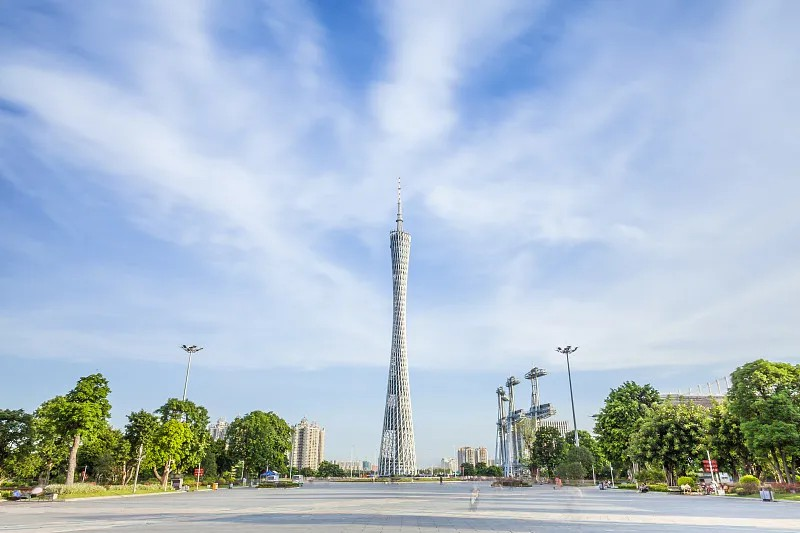Canton: (376, 175, 423, 479)
